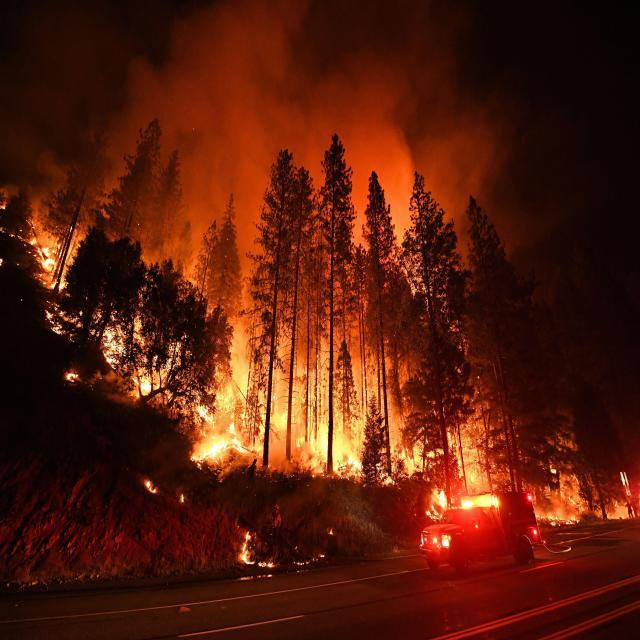Fire: (0, 196, 500, 522), (533, 468, 584, 530), (238, 530, 280, 568), (292, 547, 326, 569)
Smoke: (38, 0, 548, 322)
